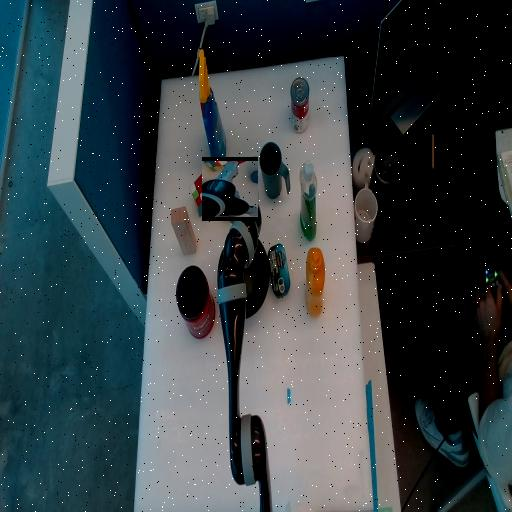bowl: (218, 233, 268, 318)
cleanser: (299, 193, 316, 209)
coffee_can: (176, 267, 214, 338)
jaco: (202, 162, 258, 217)
meat_can: (268, 245, 289, 298)
mug: (259, 143, 289, 199)
mustard_bottle: (305, 249, 324, 317)
rubik: (190, 185, 212, 207)
soup_can: (290, 97, 308, 115)
tennis_ball: (221, 188, 238, 218)
windex: (198, 49, 225, 167)
wooden_block: (170, 219, 195, 244)
workspace: (135, 57, 372, 509)
